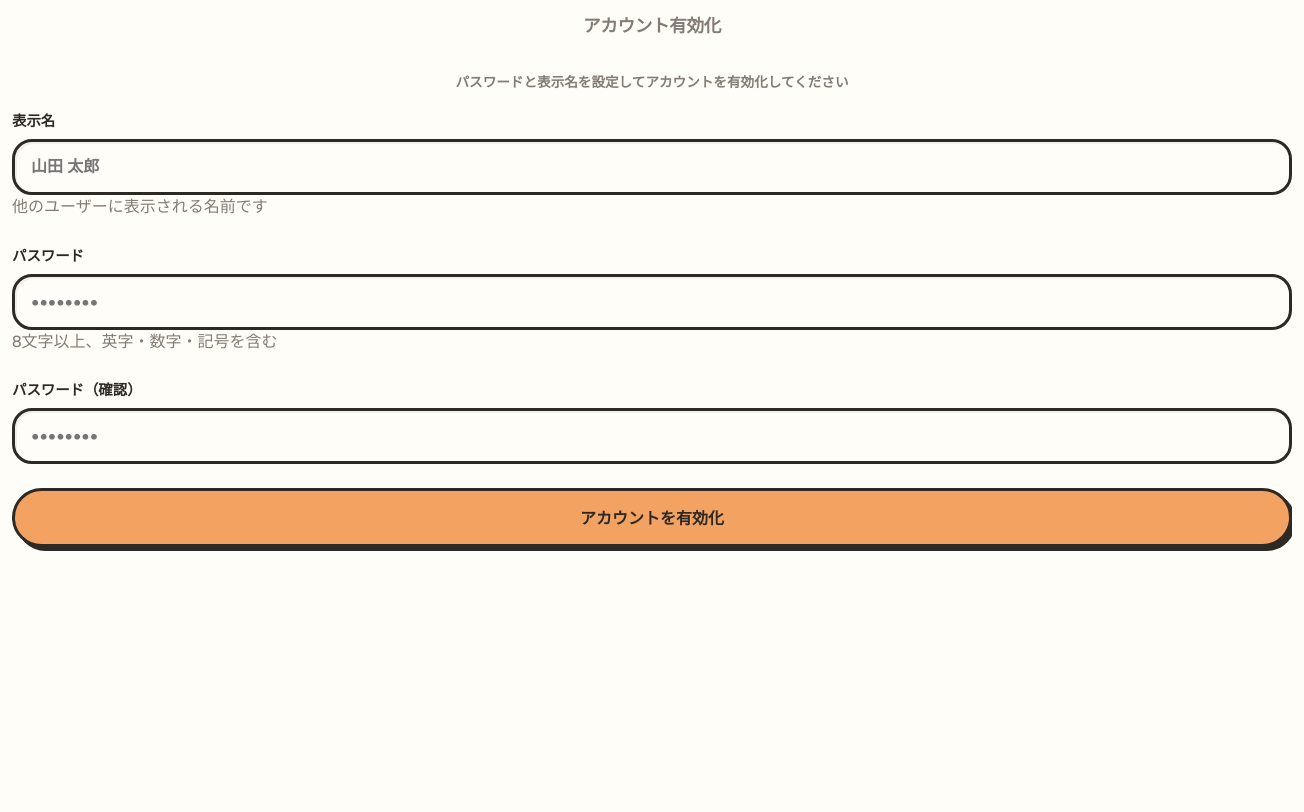
ActivatePage › validation › password mismatch shows error
Type "Test" into the field with id "displayName". click: coordinates (652, 167)
box: top-left (12, 139), bottom-right (1292, 195)
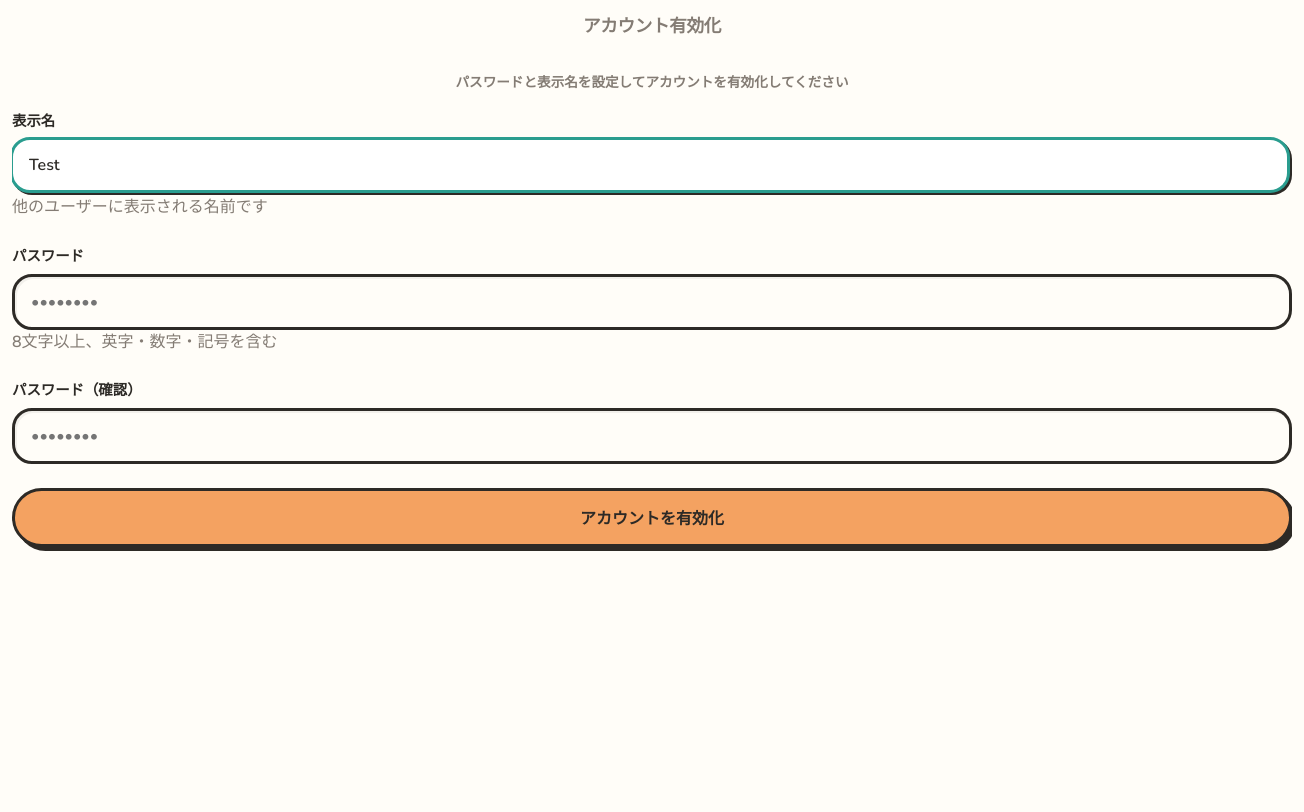
Type "Abcdef1!" into the password field labelled "パスワード". click: coordinates (652, 302)
box: top-left (12, 274), bottom-right (1292, 330)
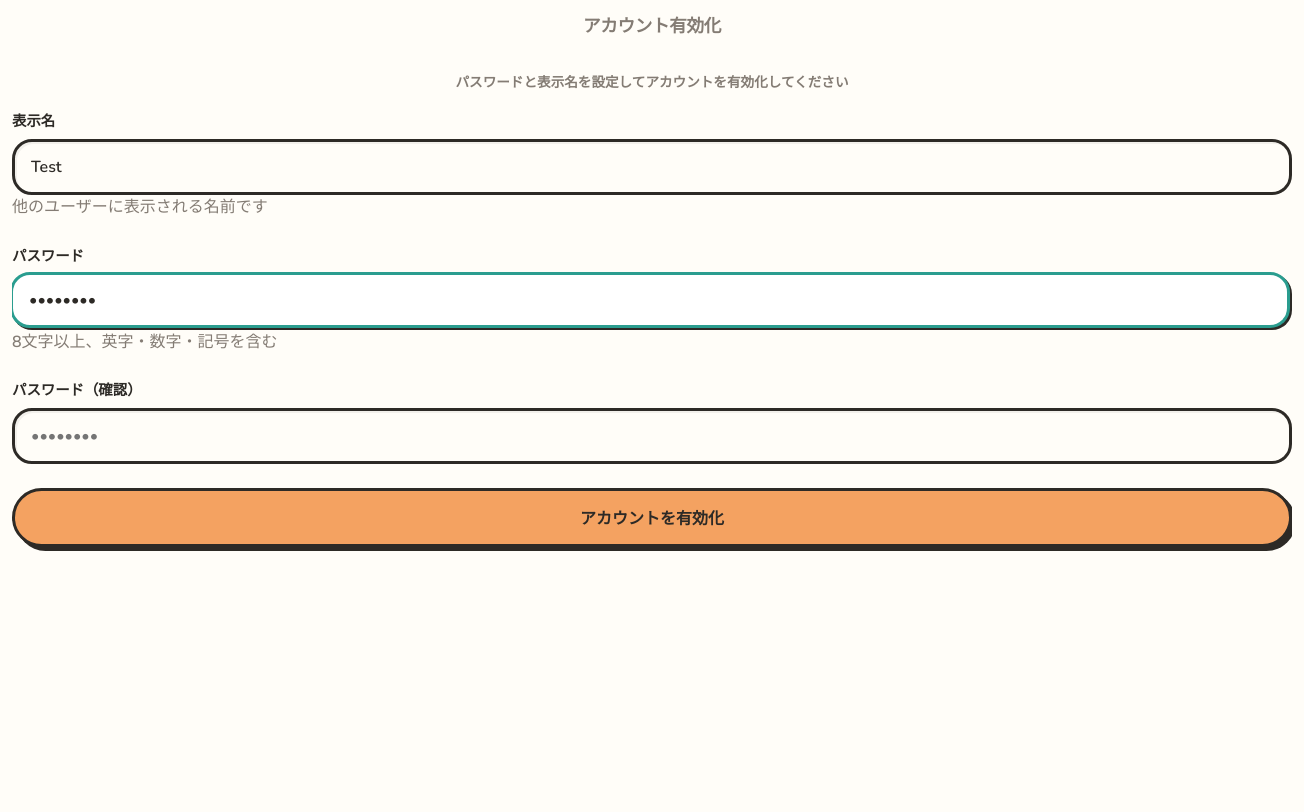
Type "different" into the password field labelled "パスワード（確認）". click: coordinates (652, 436)
box: top-left (12, 408), bottom-right (1292, 464)
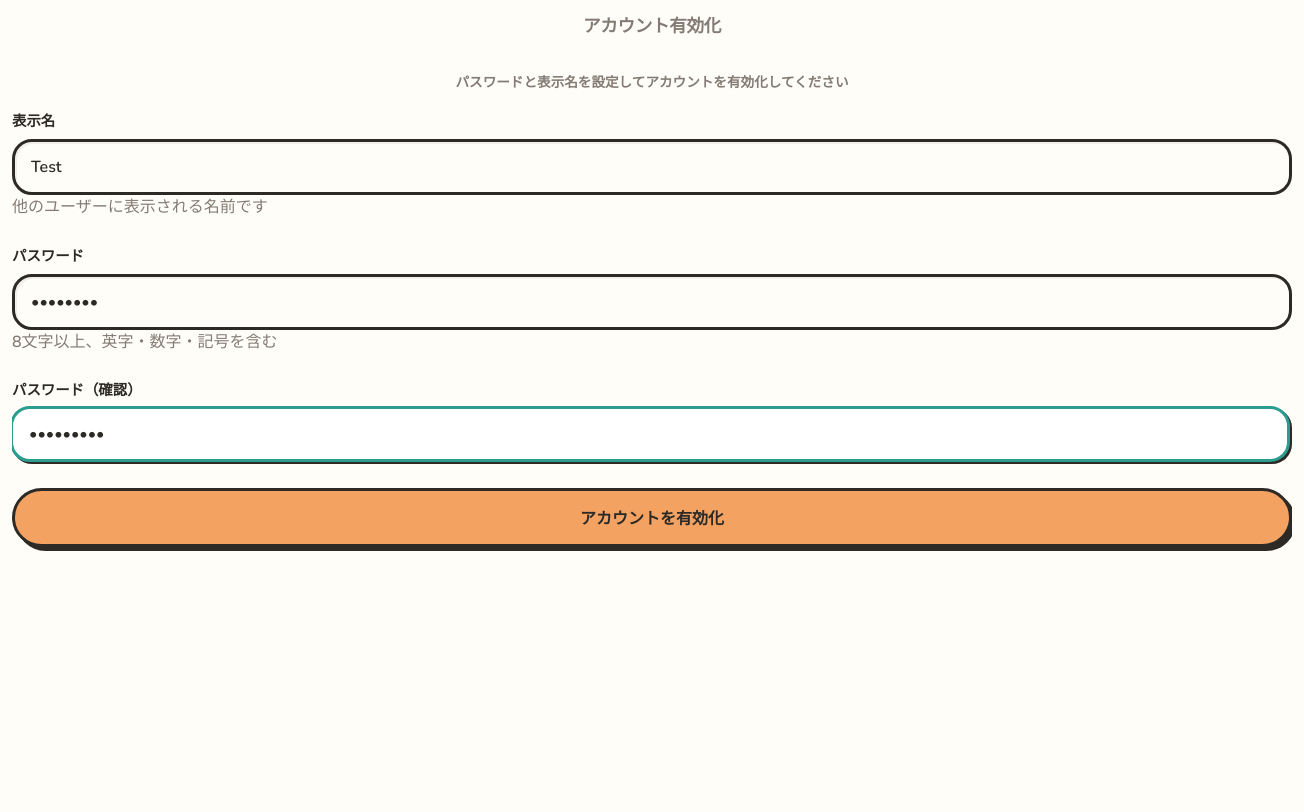
Click the button "アカウントを有効化". click: coordinates (652, 518)
box: top-left (12, 488), bottom-right (1292, 547)
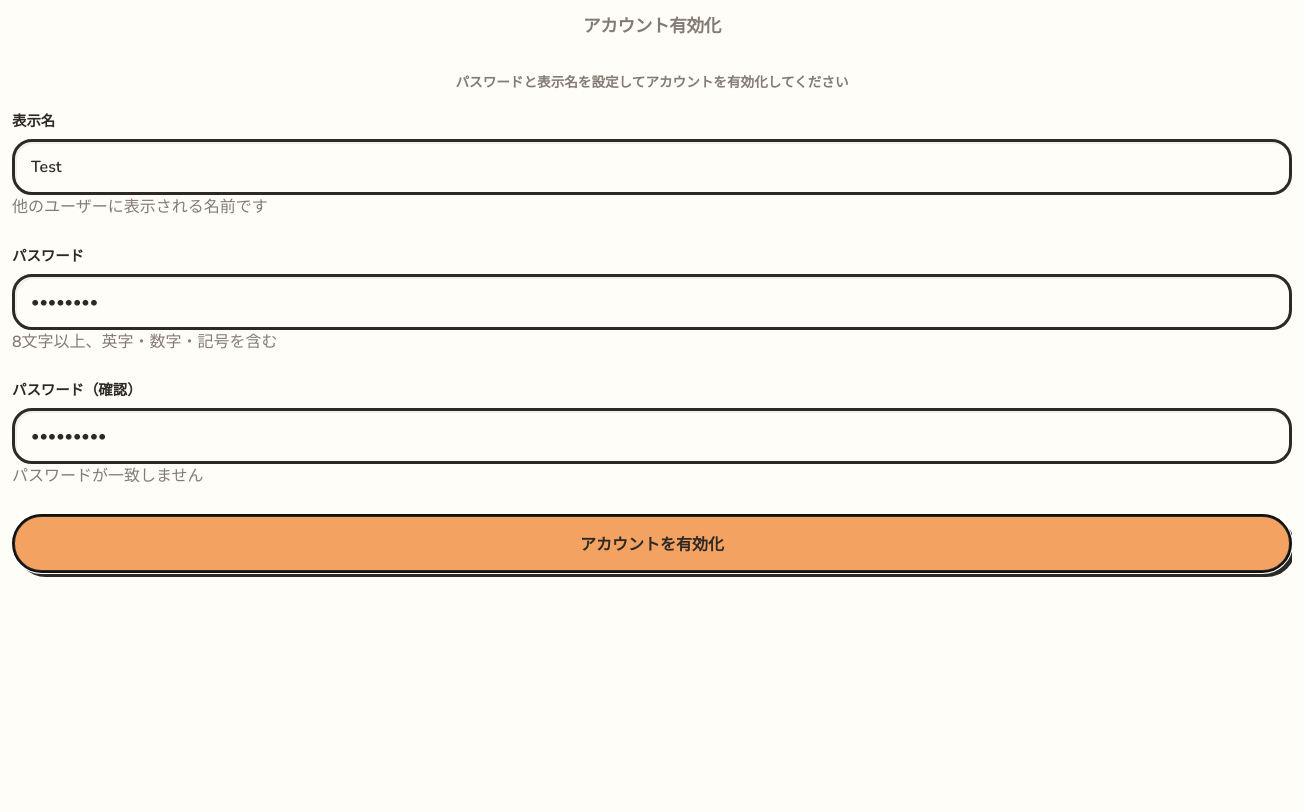
Expected: the text "パスワードが一致しません" is shown, top-left (12, 465), bottom-right (204, 487)
